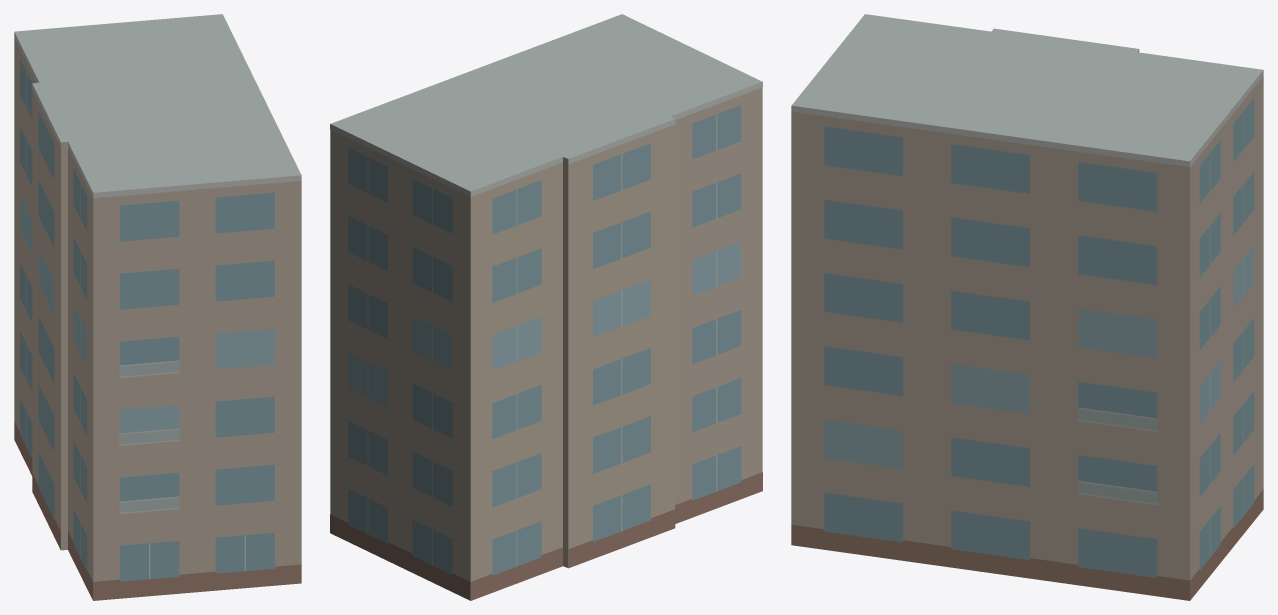
The model's file is survey-upis-32528270.glb.
The picture shows the model from 3 angles, left to right: view 1: azimuth 30°, elevation 25°; view 2: azimuth 150°, elevation 25°; view 3: azimuth 270°, elevation 25°; orthographic projection. The views are drawn at different scales.
Visible parts, largest first — view 1: survey-upis-32528270.tmp; view 2: survey-upis-32528270.tmp; view 3: survey-upis-32528270.tmp.
Boxes of the visible parts, box(x1,y1,x2,y2) form: survey-upis-32528270.tmp: box(14, 14, 301, 600); survey-upis-32528270.tmp: box(330, 14, 762, 600); survey-upis-32528270.tmp: box(791, 14, 1263, 600).
Size of the model in its own units: 13.17 by 18.3 by 17.83.
